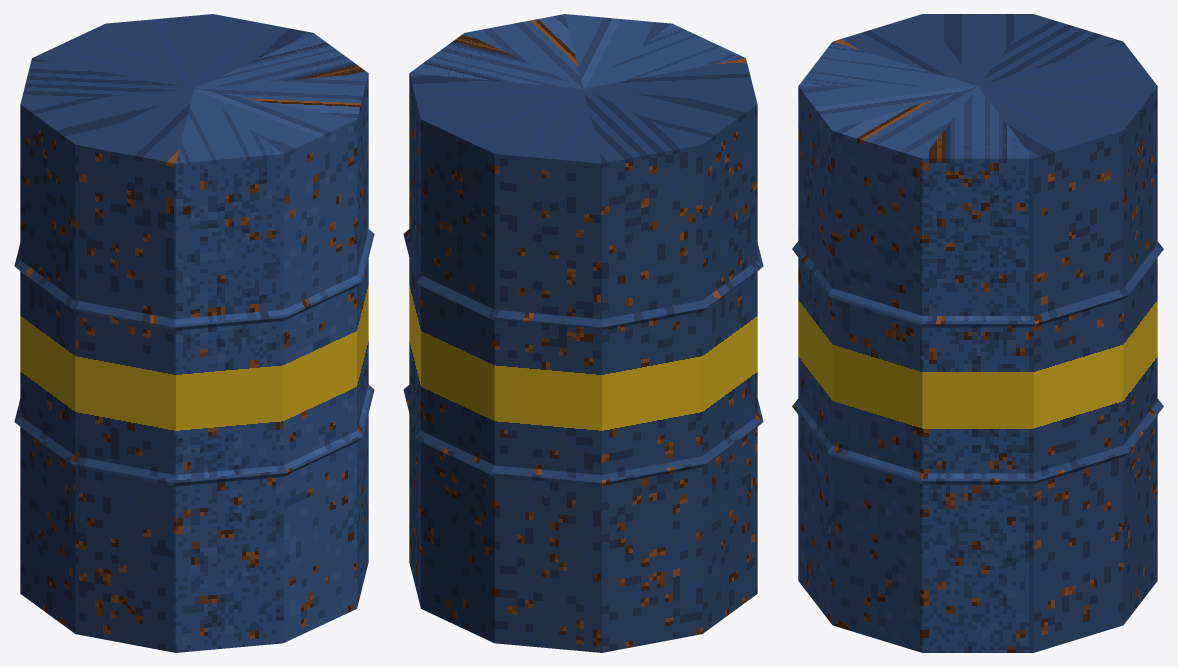
File: oil_barrel.glb
3 views of the same model, side by side, from view 1: azimuth 30°, elevation 25°; view 2: azimuth 150°, elevation 25°; view 3: azimuth 270°, elevation 25° (orthographic).
Parts seen in each view (by area): view 1: prop; view 2: prop; view 3: prop.
Boxes of the visible parts, left/top/right/bottom form: prop: left=14, top=14, right=374, bottom=652; prop: left=403, top=14, right=763, bottom=652; prop: left=792, top=14, right=1163, bottom=652.
Bounding box in the file's own units: 0.5706 × 0.88 × 0.6.
Materials: 1 (1 with a texture image).
